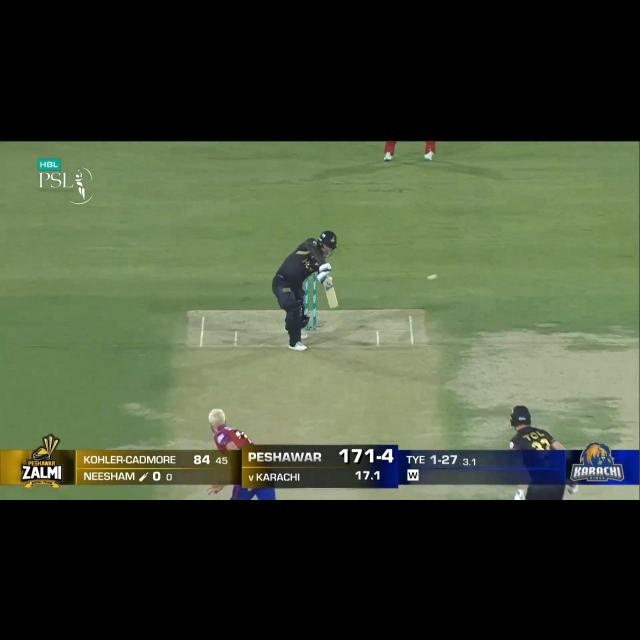bat: (320, 274, 340, 311)
toe: (330, 299, 343, 315)
